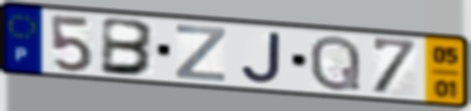5: (48, 11, 97, 74)
7: (370, 36, 420, 97)
B: (98, 15, 158, 78)
J: (239, 31, 284, 86)
Q: (307, 33, 364, 93)
Z: (172, 23, 228, 84)
